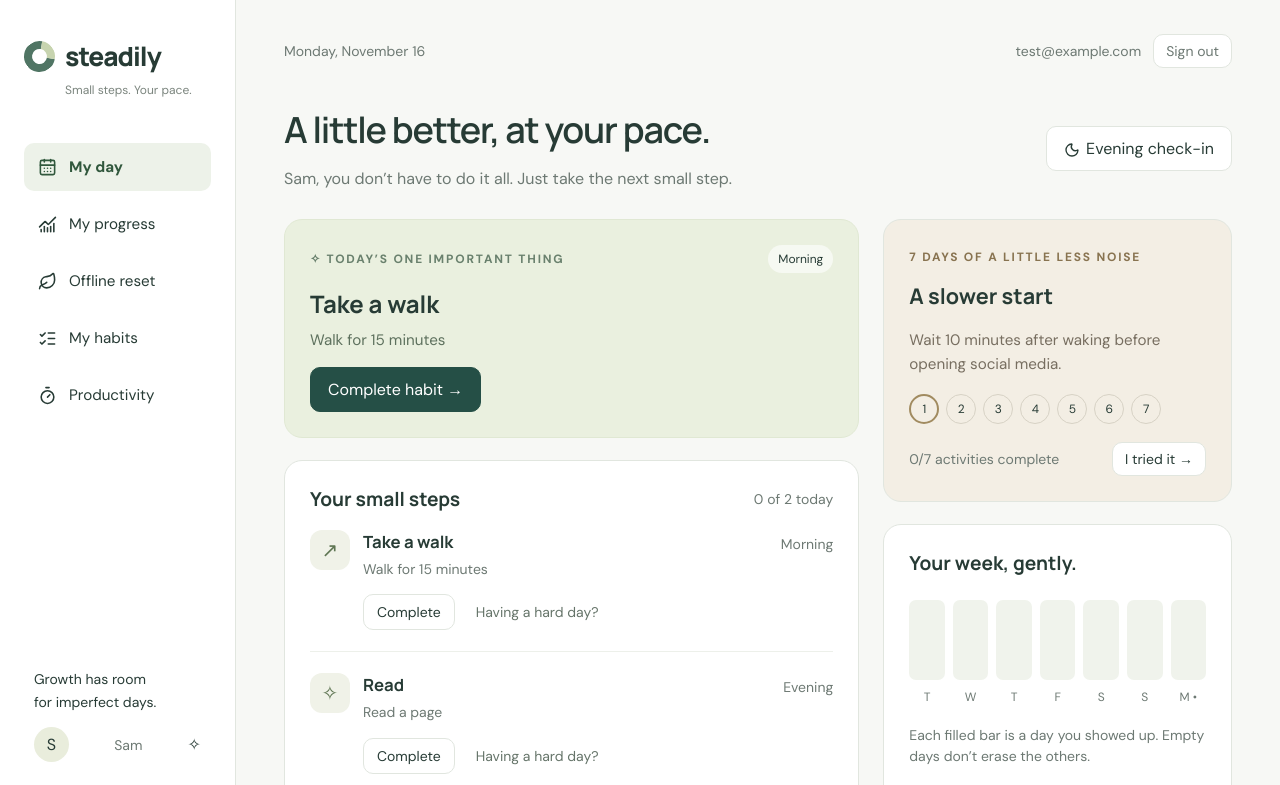
Test: main app journeys › offers list-only habit selection and completes an offline activity
Expected: the heading "Your small steps" is shown, [310,486,460,512]
What coordinates should you click on to do the following:
click the link "My habits"
I would click on:
 (88, 338)
Its box is [38,328,138,348].
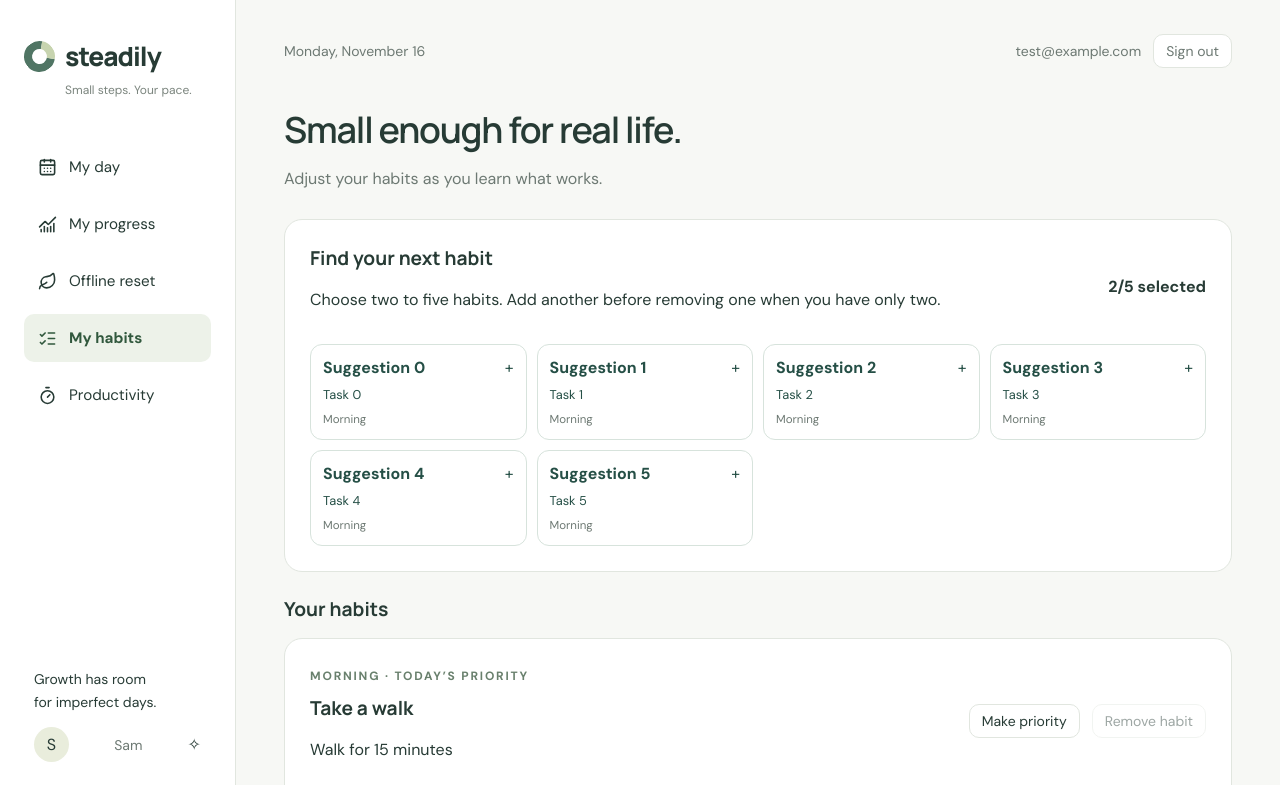
Now the heading "Your habits" is shown, box [284,596,388,622]
Now the button "Add habit" is gone
Now the button "Edit habit" is gone
What coordinates should you click on to do the following:
click the link "Offline reset"
I would click on:
 (97, 281)
Its box is [38,271,155,291].
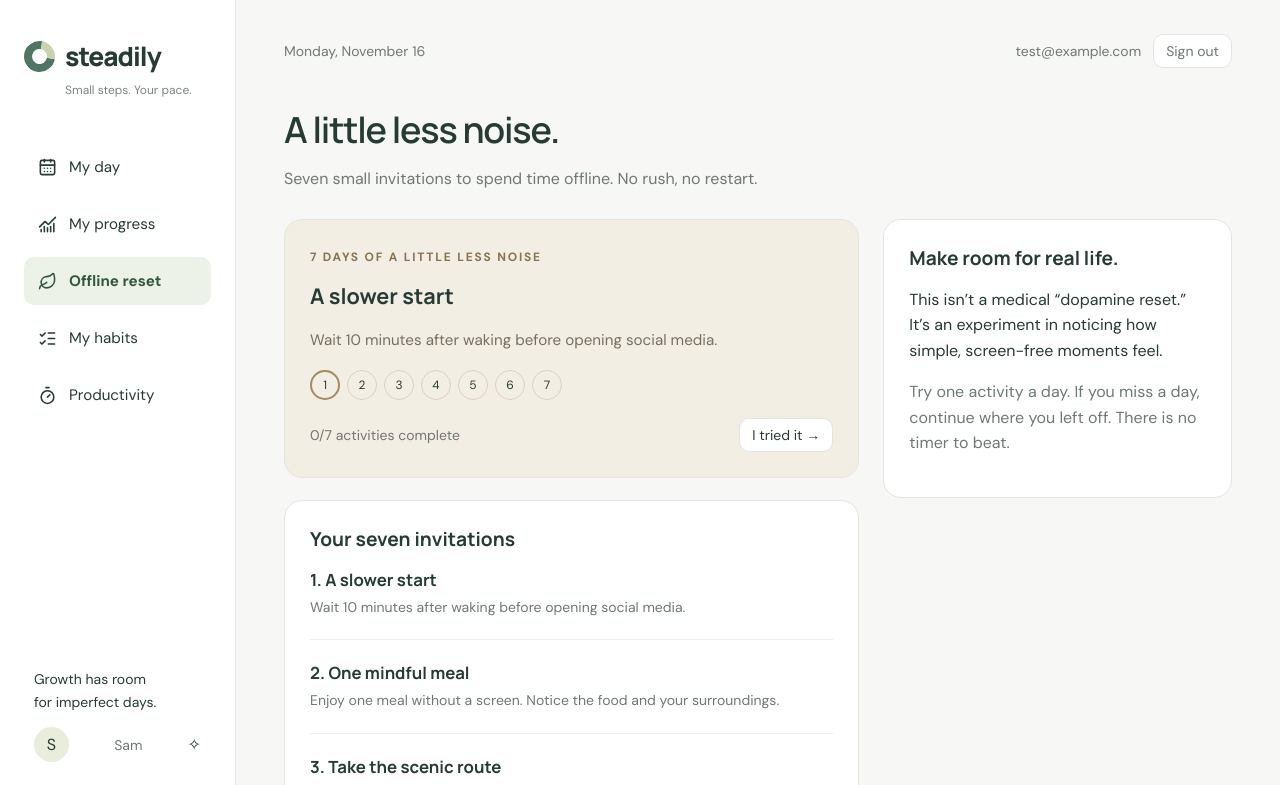
What coordinates should you click on to do the following:
click the button "I tried it →"
I would click on:
 (786, 435)
Its box is [739,418,833,452].
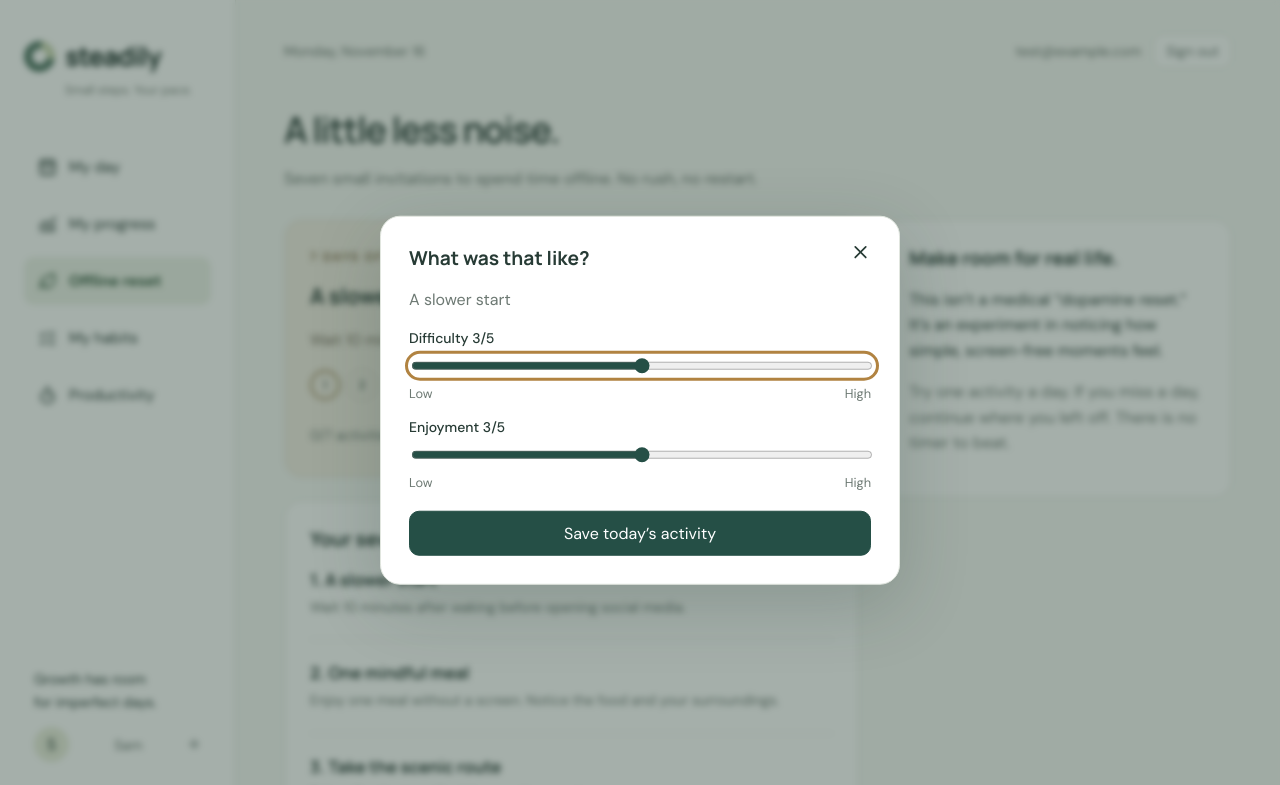
What coordinates should you click on to do the following:
click the button "Save today’s activity"
I would click on:
 (640, 533)
Its box is [409,510,871,555].
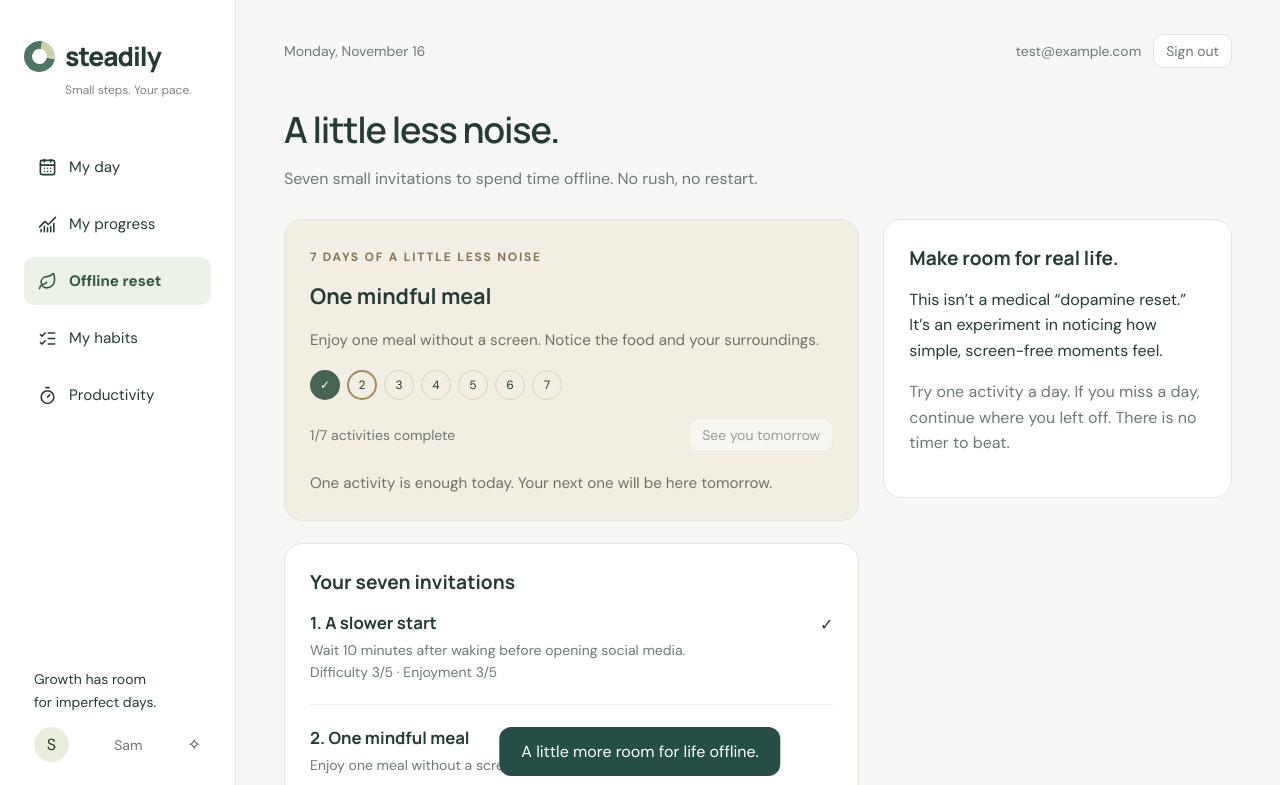
Now the button "See you tomorrow" is disabled, box [689,418,833,452]
